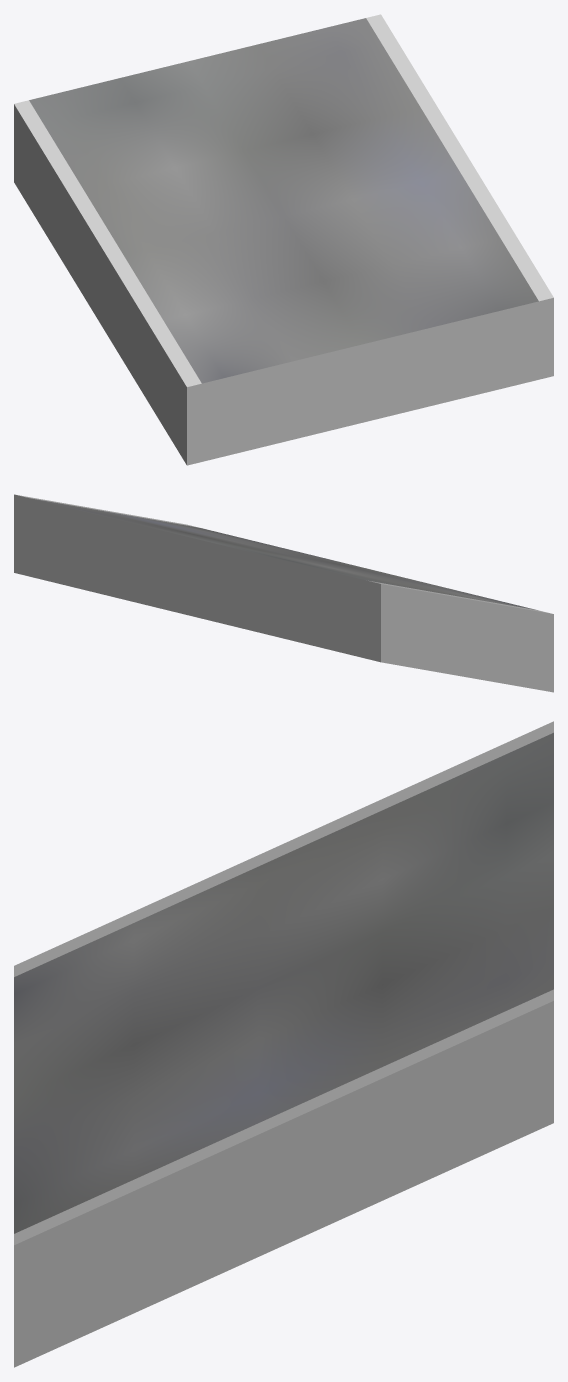
File: JpHouse_23a_site4a.fbx
3 renders of one model, top to bottom at view 1: azimuth 30°, elevation 25°; view 2: azimuth 150°, elevation 25°; view 3: azimuth 270°, elevation 25°, orthographic. The views are drawn at different scales.
Parts seen in each view (by area): view 1: JpHouse_23a_site4a; view 2: JpHouse_23a_site4a; view 3: JpHouse_23a_site4a.
Boxes of the visible parts, x1=… form: JpHouse_23a_site4a: x1=14, y1=14, x2=553, y2=465; JpHouse_23a_site4a: x1=14, y1=494, x2=553, y2=692; JpHouse_23a_site4a: x1=14, y1=721, x2=553, y2=1367.
Bounding box in the file's own units: 2.45 × 1.5 × 2.
